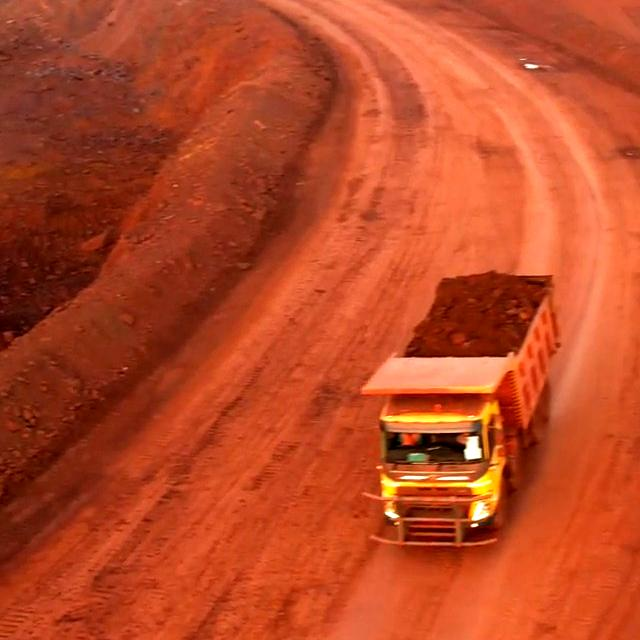Dumper truck: (383, 345, 523, 540)
